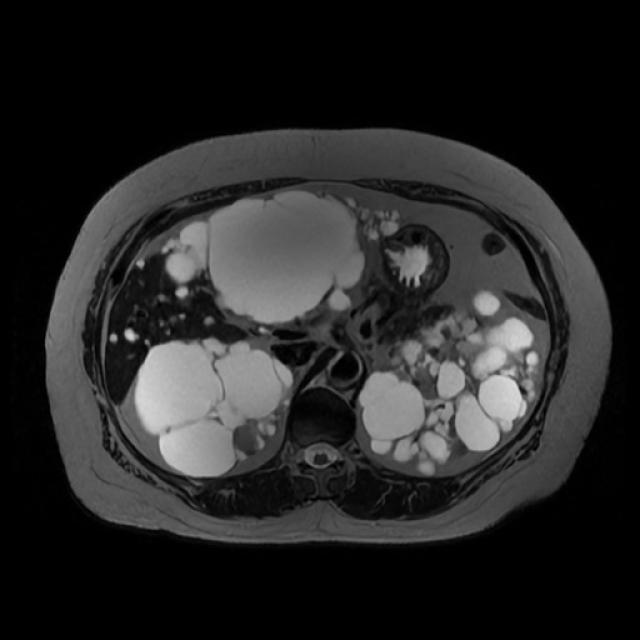sag: (133, 336, 295, 479)
sol: (358, 289, 542, 480)
